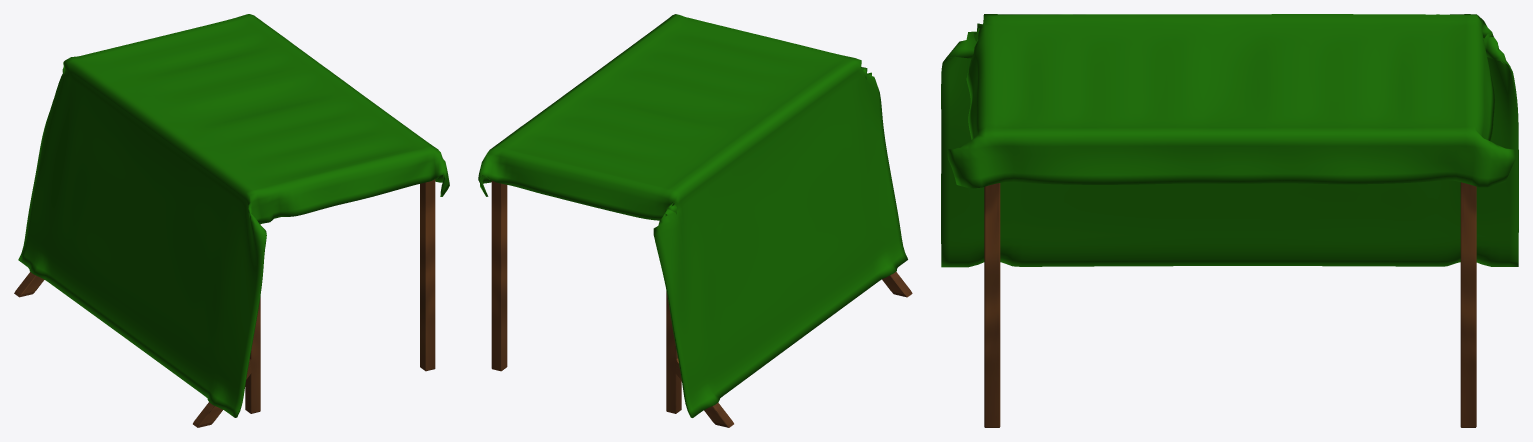
Rendered from Canopy03.glb.
3 renders of one model, left to right at view 1: azimuth 30°, elevation 25°; view 2: azimuth 150°, elevation 25°; view 3: azimuth 270°, elevation 25°, orthographic. The views are drawn at different scales.
Visible parts, largest first — view 1: canopy3; view 2: canopy3; view 3: canopy3.
Part boxes in pixels (<box>): canopy3: <box>14,14,449,427</box>; canopy3: <box>478,14,912,427</box>; canopy3: <box>941,14,1518,427</box>.
Bounding box in the file's own units: 7.32 × 6.31 × 11.08.
2 materials, 1 textured.
